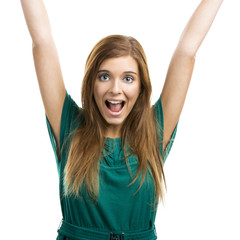teen: (78, 36, 156, 124)
